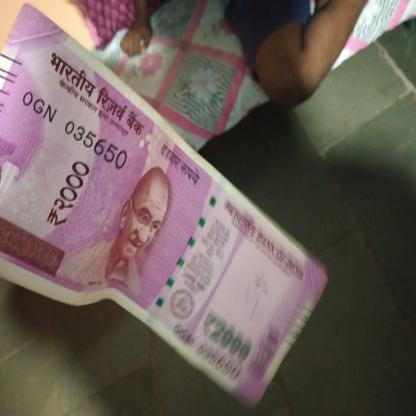New2000Front: (0, 8, 292, 397)
